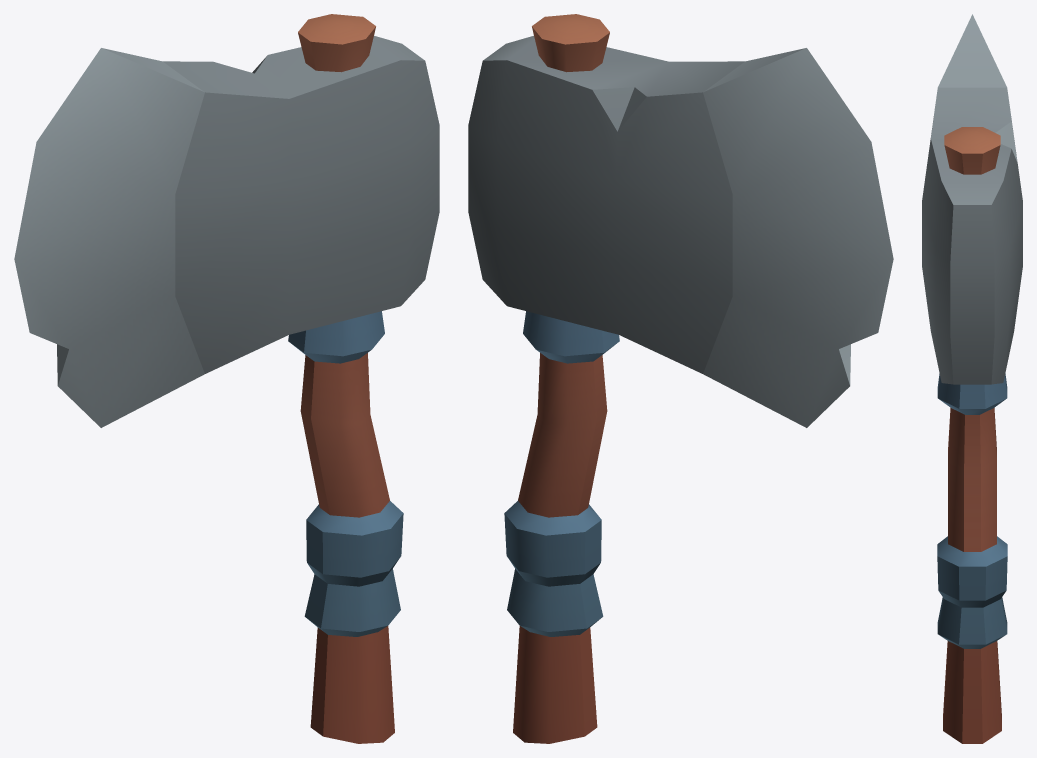
The model's file is axe_1handed.obj.
The picture shows the model from 3 angles, left to right: view 1: azimuth 30°, elevation 25°; view 2: azimuth 150°, elevation 25°; view 3: azimuth 270°, elevation 25°; orthographic projection. The views are drawn at different scales.
Parts seen in each view (by area): view 1: axe_1handed; view 2: axe_1handed; view 3: axe_1handed.
Part boxes in pixels (left/top/right/bottom): axe_1handed: left=14, top=14, right=439, bottom=743; axe_1handed: left=468, top=14, right=893, bottom=743; axe_1handed: left=922, top=14, right=1022, bottom=743.
Size of the model in its own units: 0.7143 by 1.24 by 0.185.
Materials: 1 (1 with a texture image).
